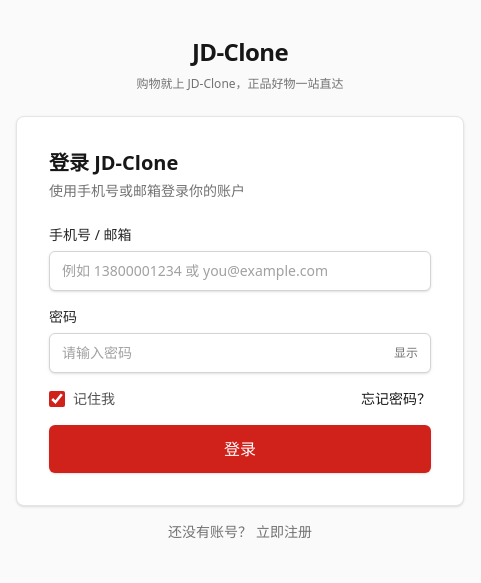
LoginPage 集成测试 › 1004 错误码映射为『账号已被禁用』
Type "you@example.com" into the field labelled "手机号 / 邮箱" at {"x": 240, "y": 271}, box [62,261,418,281]
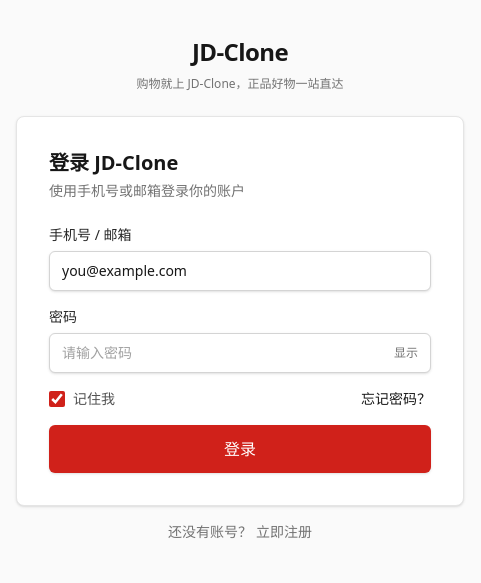
Type "Test1234" into the password field labelled "密码" at {"x": 224, "y": 353}, box [62,343,386,363]
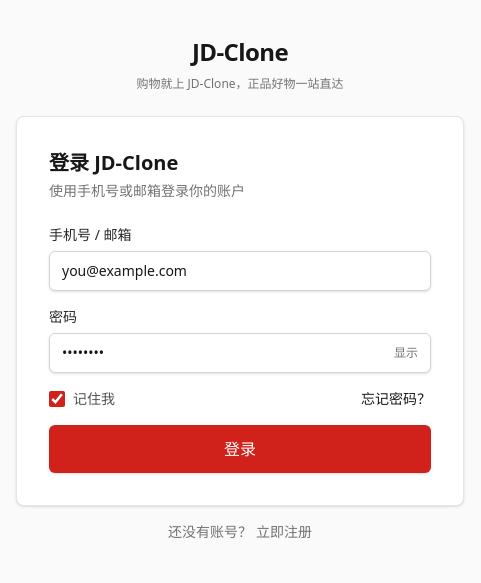
Click the button "登录" at {"x": 240, "y": 449}, box [49,425,431,473]
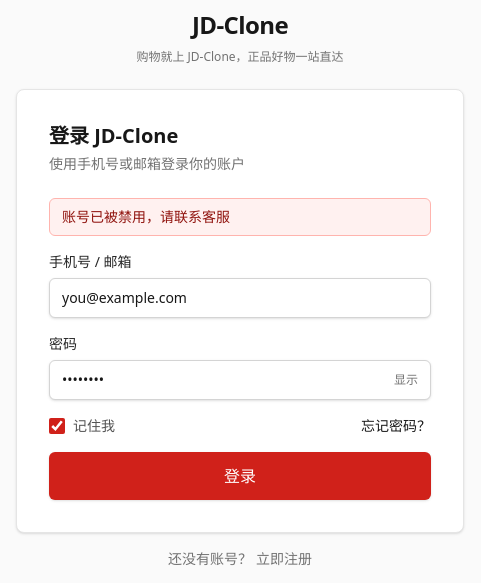
Check: the text "账号已被禁用，请联系客服" is shown, box [49,198,431,236]
